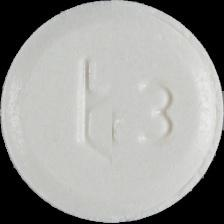76413-128: (0, 0, 224, 224)
